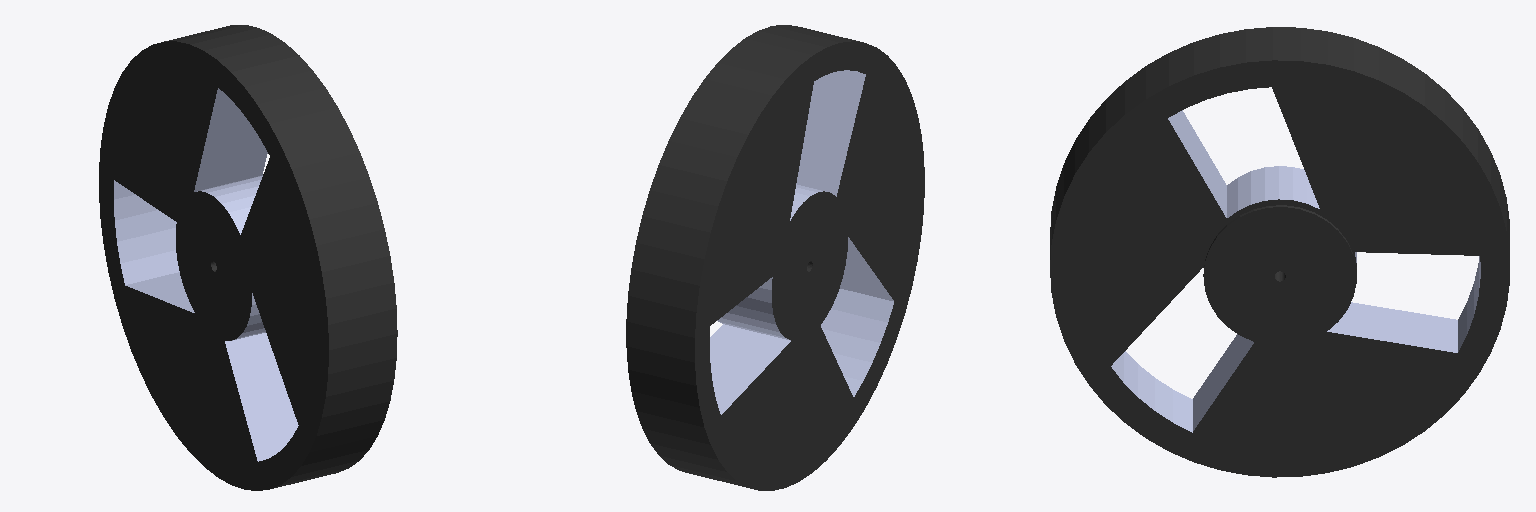
File: wheel.obj
3 renders of one model, left to right at view 1: azimuth 30°, elevation 25°; view 2: azimuth 150°, elevation 25°; view 3: azimuth 270°, elevation 25°, orthographic.
Parts seen in each view (by area): view 1: Root|wheel_(Default)|Default|color, Root|wheel_(Default)|Default|color-2; view 2: Root|wheel_(Default)|Default|color, Root|wheel_(Default)|Default|color-2; view 3: Root|wheel_(Default)|Default|color, Root|wheel_(Default)|Default|color-2.
Boxes of the visible parts, <box> form: Root|wheel_(Default)|Default|color: <box>99,25,397,490</box>; Root|wheel_(Default)|Default|color-2: <box>114,88,298,461</box>; Root|wheel_(Default)|Default|color: <box>626,25,924,490</box>; Root|wheel_(Default)|Default|color-2: <box>710,70,893,414</box>; Root|wheel_(Default)|Default|color: <box>1050,27,1509,477</box>; Root|wheel_(Default)|Default|color-2: <box>1111,110,1480,432</box>.
Bounding box in the file's own units: 0.12 × 0.5697 × 0.5695.